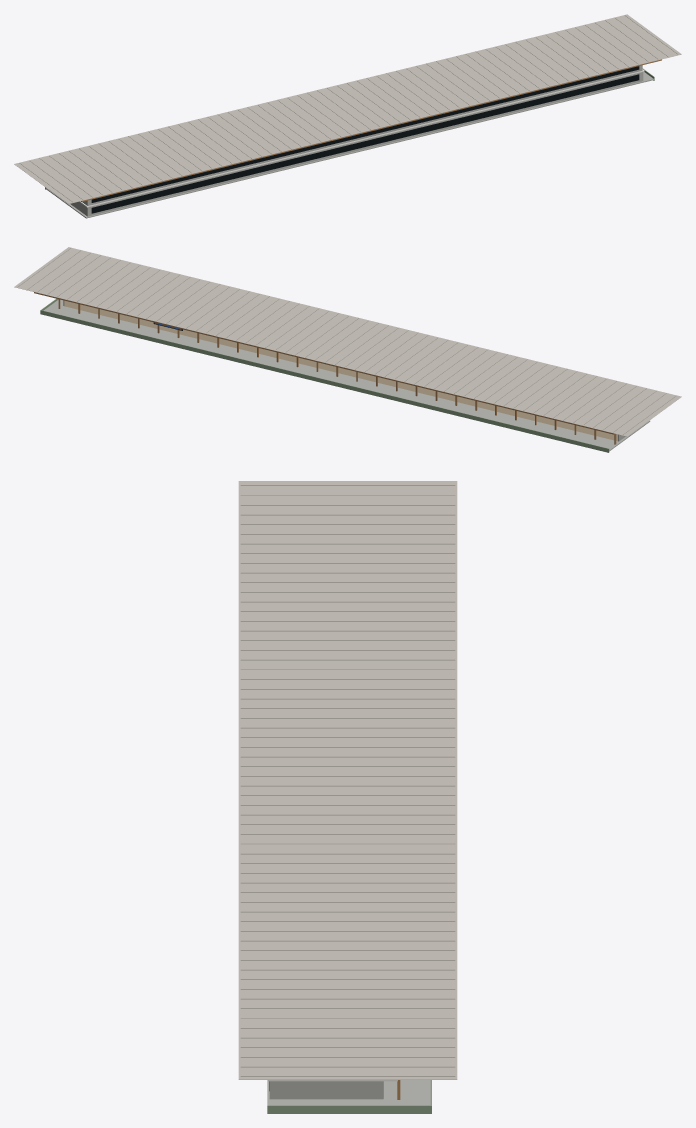
Rendered from mel_pit_upper.glb.
3 renders of one model, top to bottom at view 1: azimuth 30°, elevation 25°; view 2: azimuth 150°, elevation 25°; view 3: azimuth 270°, elevation 25°, orthographic. The views are drawn at different scales.
Visible parts, largest first — view 1: melbourne-pit-building-2028; view 2: melbourne-pit-building-2028; view 3: melbourne-pit-building-2028.
Part boxes in pixels (x1,y1,x2,y2): melbourne-pit-building-2028: (14, 14, 681, 218); melbourne-pit-building-2028: (14, 247, 681, 452); melbourne-pit-building-2028: (238, 481, 457, 1113).
Size of the model in its own units: 298 by 12.57 by 46.
